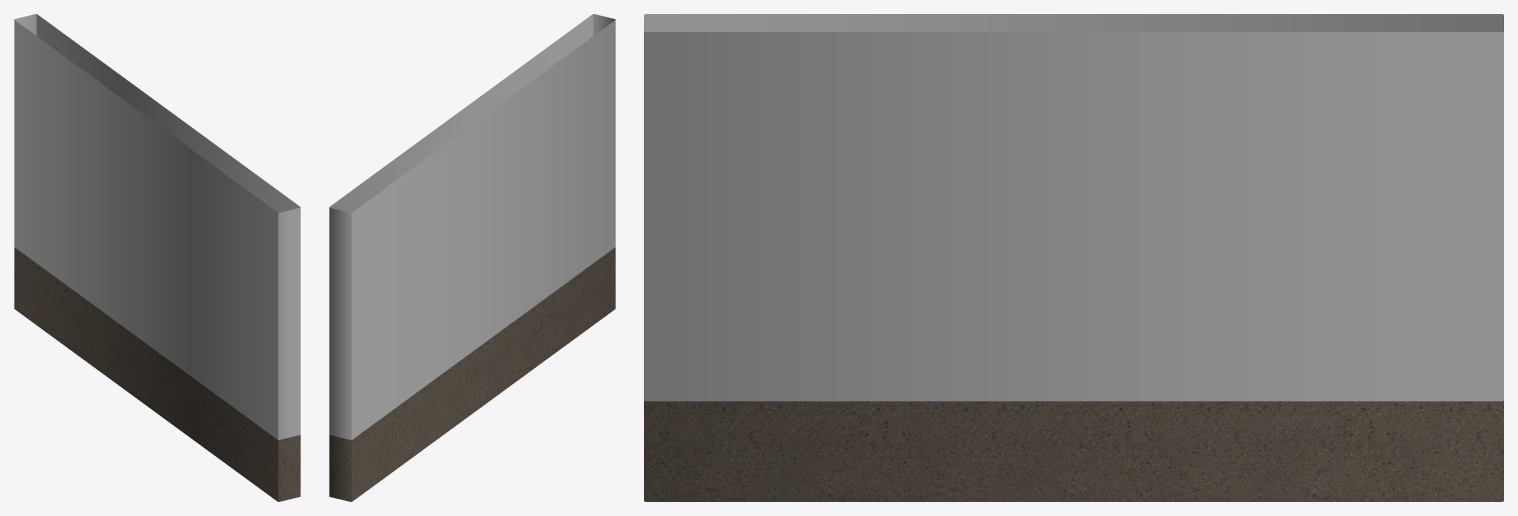
The model's file is Wall_06.fbx.
3 renders of one model, left to right at view 1: azimuth 30°, elevation 25°; view 2: azimuth 150°, elevation 25°; view 3: azimuth 270°, elevation 25°, orthographic. The views are drawn at different scales.
Parts seen in each view (by area): view 1: Wall_06; view 2: Wall_06; view 3: Wall_06.
Boxes of the visible parts, left/top/right/bottom form: Wall_06: left=14, top=14, right=300, bottom=501; Wall_06: left=329, top=14, right=615, bottom=501; Wall_06: left=644, top=14, right=1503, bottom=501.
Size of the model in its own units: 0.3 by 3.62 by 6.
